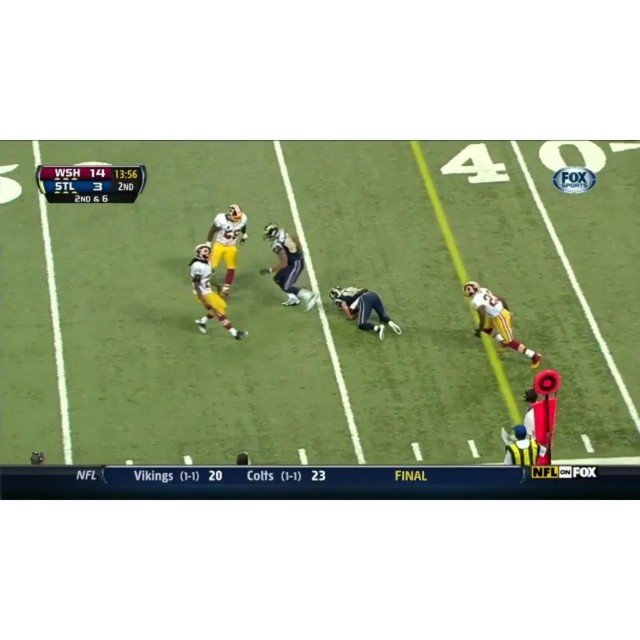american-football-player: (463, 280, 541, 368), (187, 244, 248, 341), (260, 224, 320, 312), (204, 203, 249, 298), (330, 286, 402, 340)
